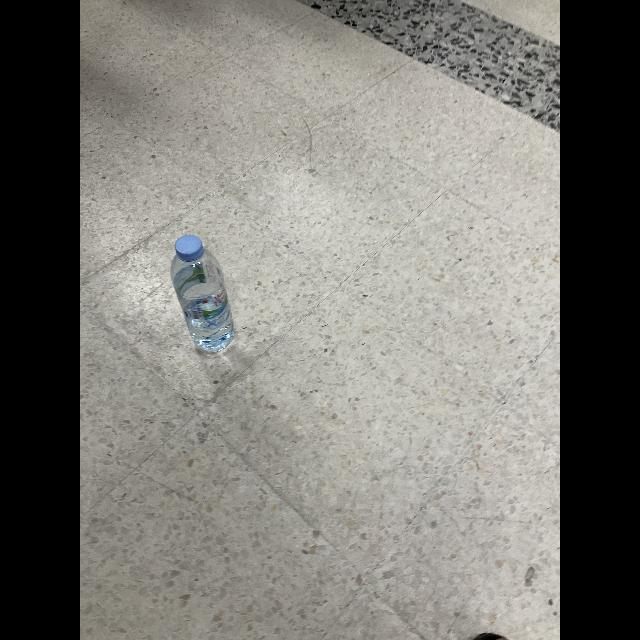plastic_bottle: (170, 234, 240, 360)
plastic_bottle_cap: (175, 234, 208, 262)
